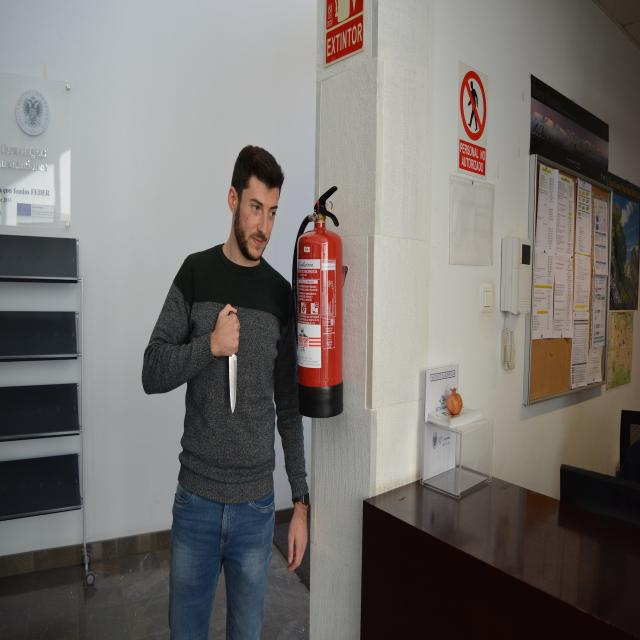knife: (227, 355, 241, 418)
